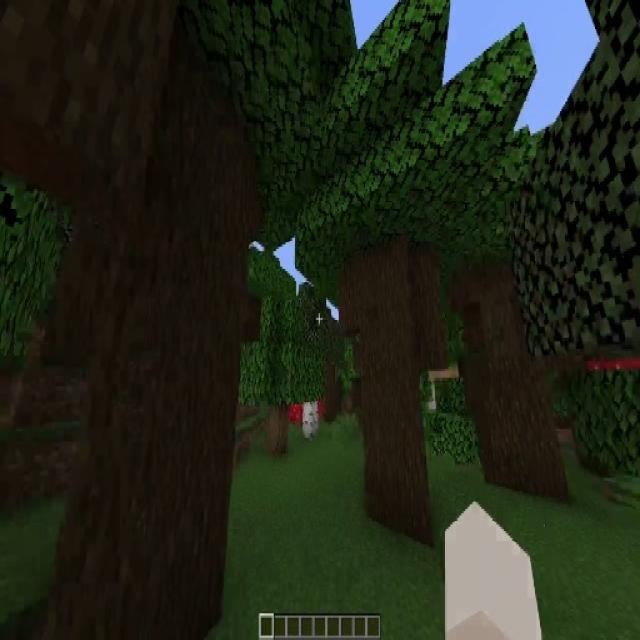birch_log: (300, 400, 319, 435)
dark_oak: (0, 0, 323, 621), (312, 0, 498, 530), (434, 122, 572, 500)
dark_oak_log: (64, 9, 228, 628), (358, 248, 431, 528), (473, 277, 545, 490)
oak: (240, 308, 310, 454)
oak_log: (264, 400, 288, 454)
